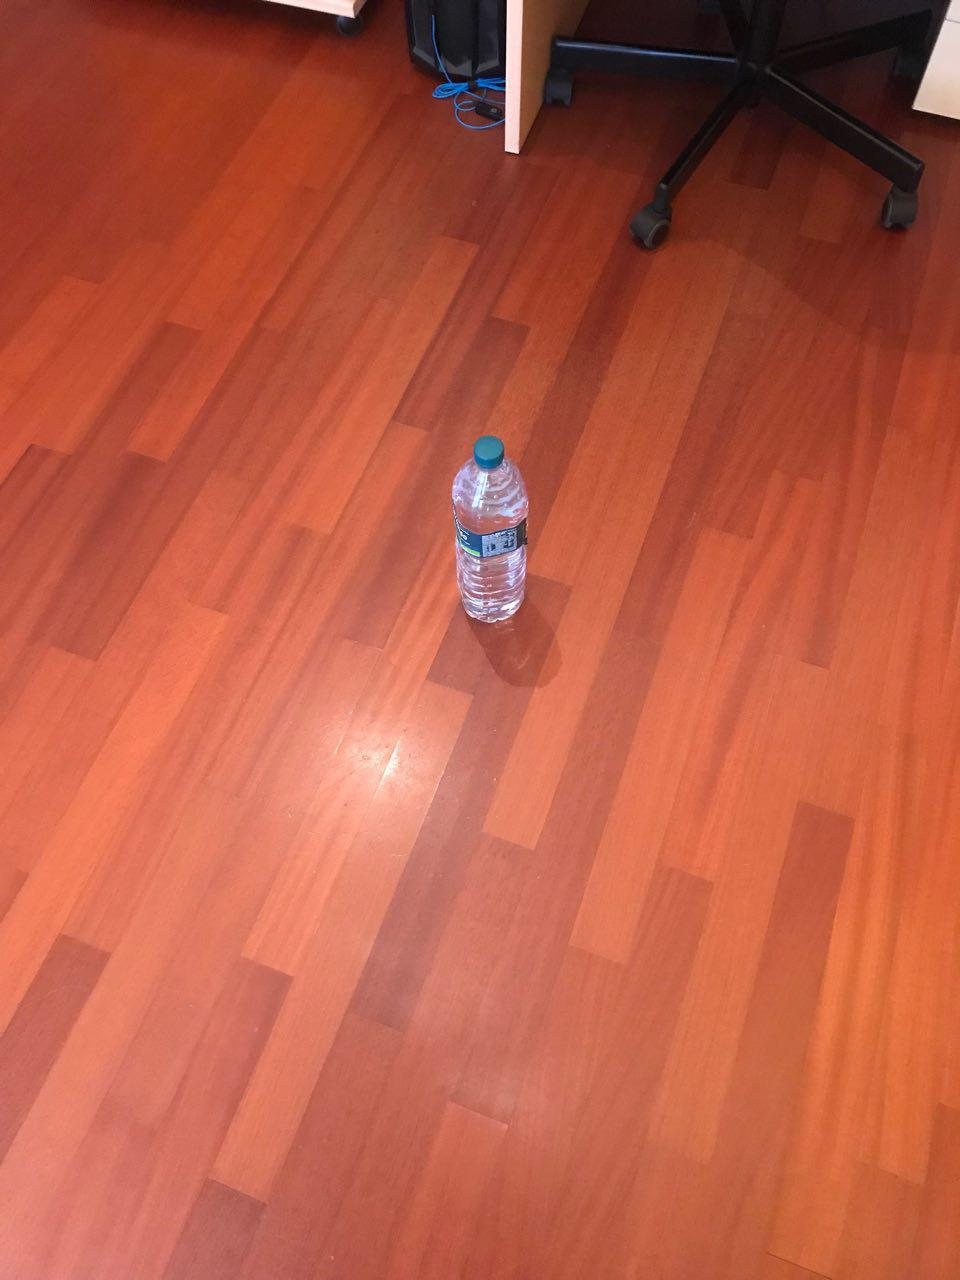san_bernardo: (449, 435, 529, 624)
